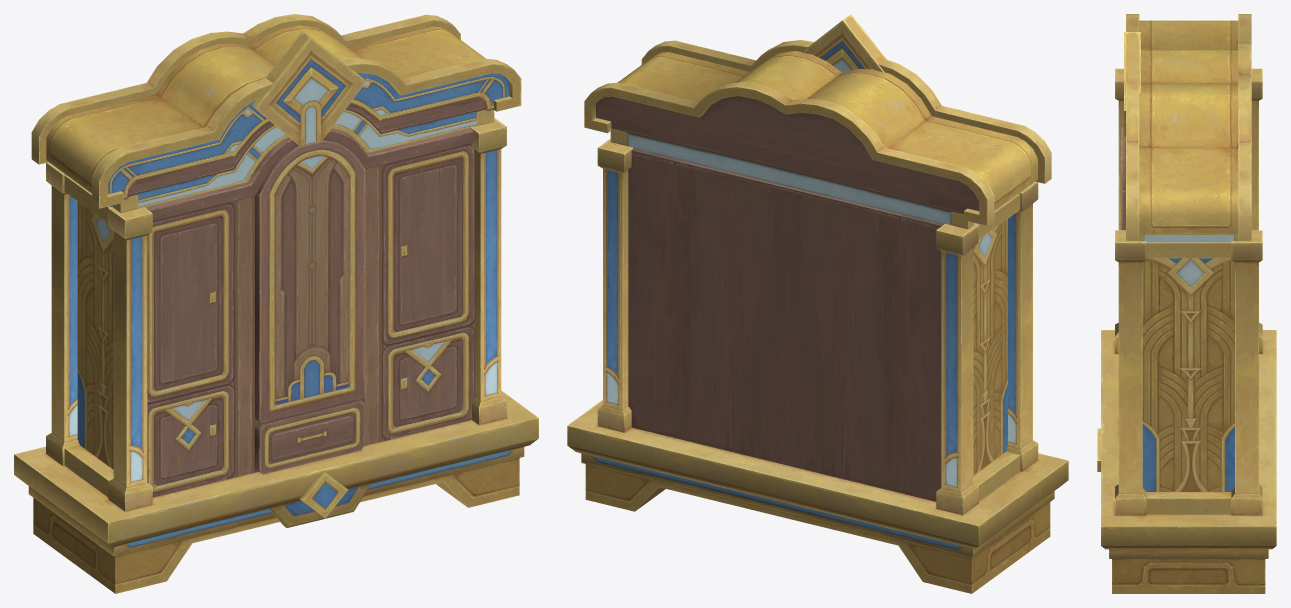
The model's file is Homeworld_Interior_Fd_Cabinet_Prop_Wardrobe_01_Lod0.fbx.
3 renders of one model, left to right at view 1: azimuth 30°, elevation 25°; view 2: azimuth 150°, elevation 25°; view 3: azimuth 270°, elevation 25°, orthographic. The views are drawn at different scales.
Visible parts, largest first — view 1: Homeworld_Interior_Fd_Cabinet_Prop_Wardrobe_01_Lod0; view 2: Homeworld_Interior_Fd_Cabinet_Prop_Wardrobe_01_Lod0; view 3: Homeworld_Interior_Fd_Cabinet_Prop_Wardrobe_01_Lod0.
Part boxes in pixels (x1=…): Homeworld_Interior_Fd_Cabinet_Prop_Wardrobe_01_Lod0: x1=14, y1=14, x2=538, y2=593; Homeworld_Interior_Fd_Cabinet_Prop_Wardrobe_01_Lod0: x1=567, y1=14, x2=1068, y2=593; Homeworld_Interior_Fd_Cabinet_Prop_Wardrobe_01_Lod0: x1=1097, y1=14, x2=1276, y2=593.
Size of the model in its own units: 2.69 by 3 by 1.04.
